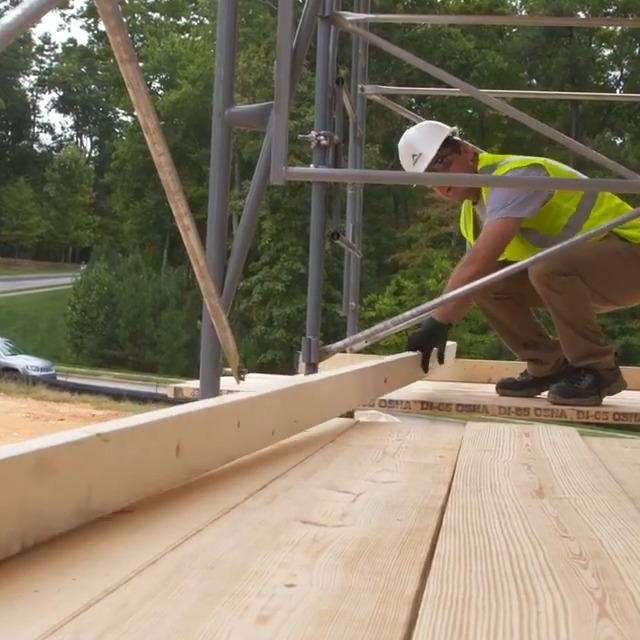Gloves: (406, 317, 454, 374)
Hardhat: (399, 120, 459, 187)
NO-Mask: (441, 165, 472, 199)
Person: (397, 118, 640, 408)
SUV: (0, 330, 58, 379)
Safety Vest: (457, 150, 640, 260)
